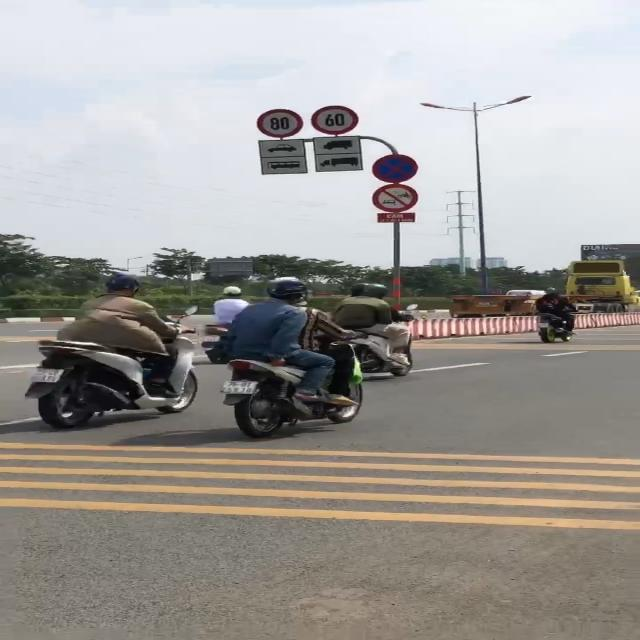Bien bao cam dung xe va do xe: (371, 152, 421, 183)
Bien bao toc do toi da cho phep: (308, 103, 361, 135), (256, 107, 304, 140)
